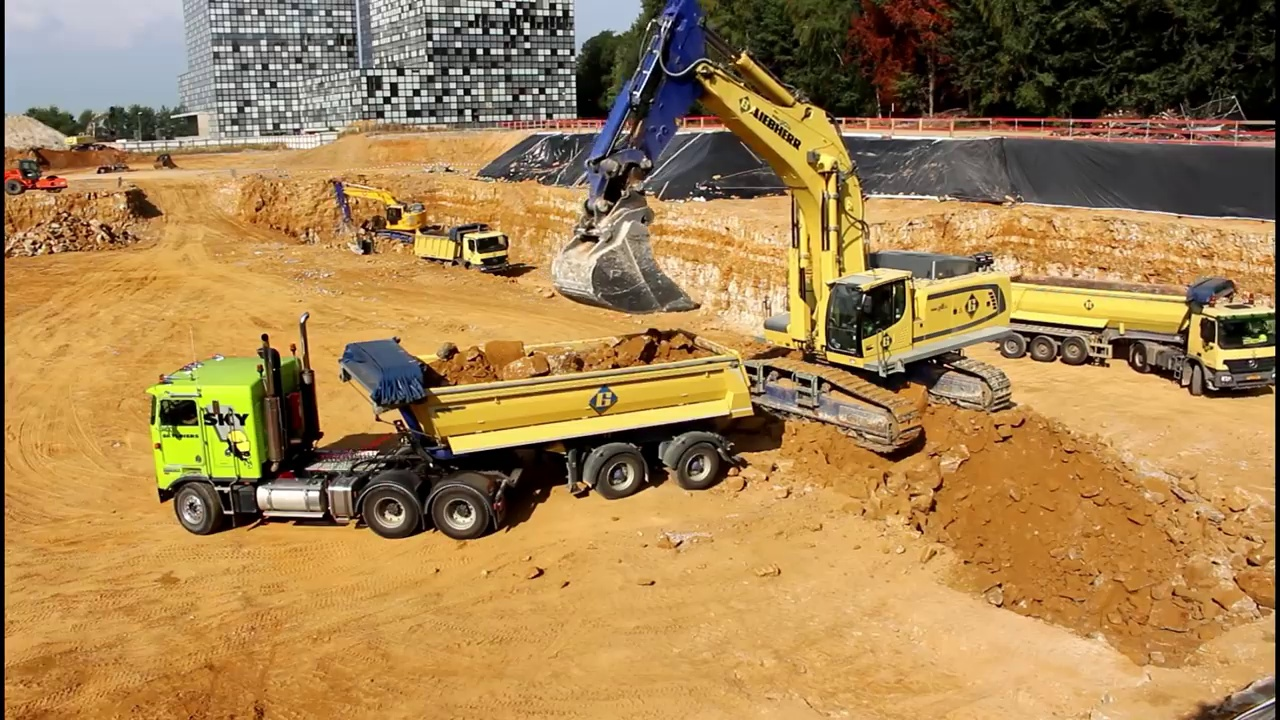compactor: (4, 159, 71, 198)
excavator: (550, 2, 1016, 455), (329, 176, 446, 255), (63, 112, 115, 157)
truck: (136, 310, 763, 544), (988, 271, 1277, 402), (405, 220, 515, 281)
